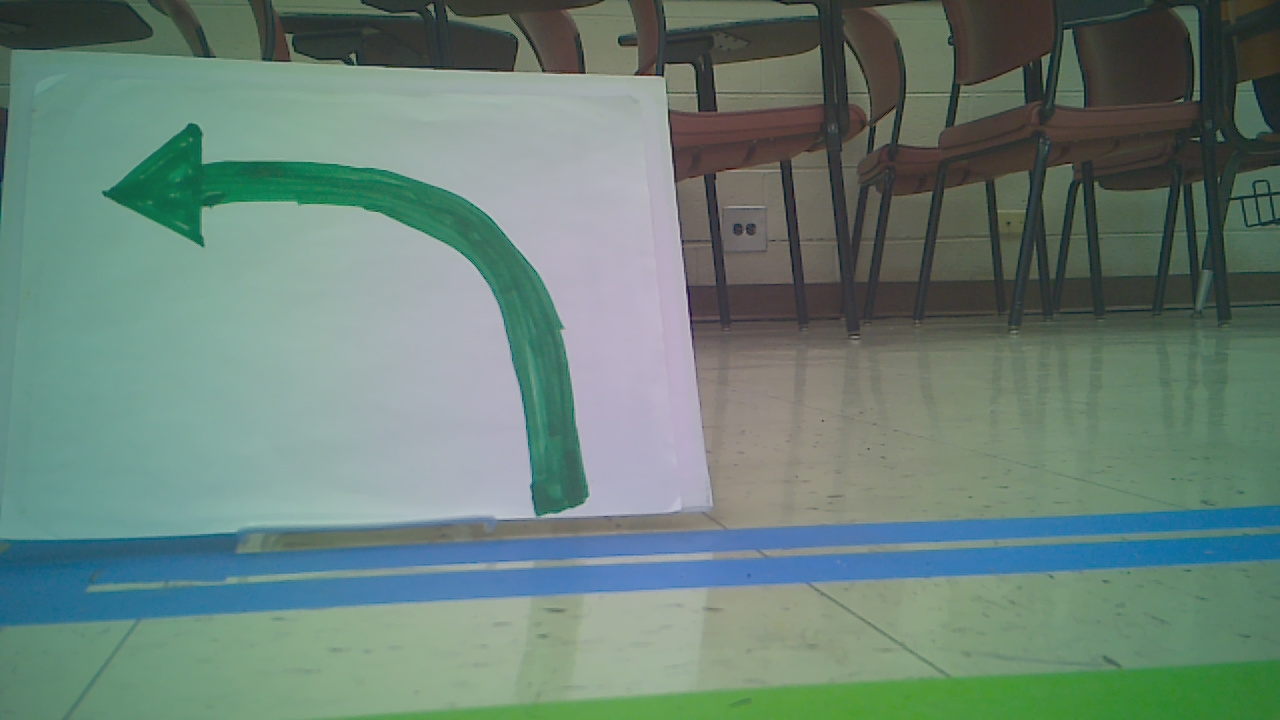left: (75, 105, 593, 516)
